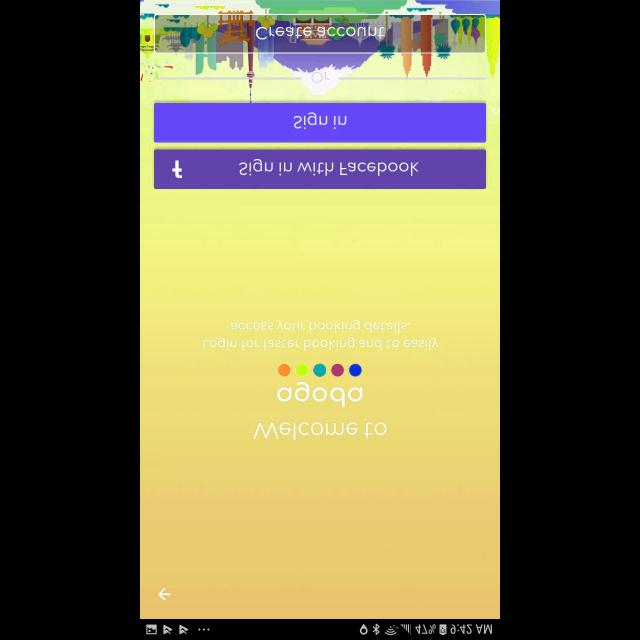backgroundimage: (140, 0, 500, 618)
icon: (158, 588, 172, 600)
pageindicator: (278, 363, 362, 377)
text: (203, 320, 439, 350), (253, 420, 387, 440), (277, 381, 363, 407), (310, 72, 330, 84)
textbutton: (154, 14, 486, 54), (154, 102, 486, 142), (154, 149, 486, 189)
uppertaskbar: (140, 618, 500, 640)
